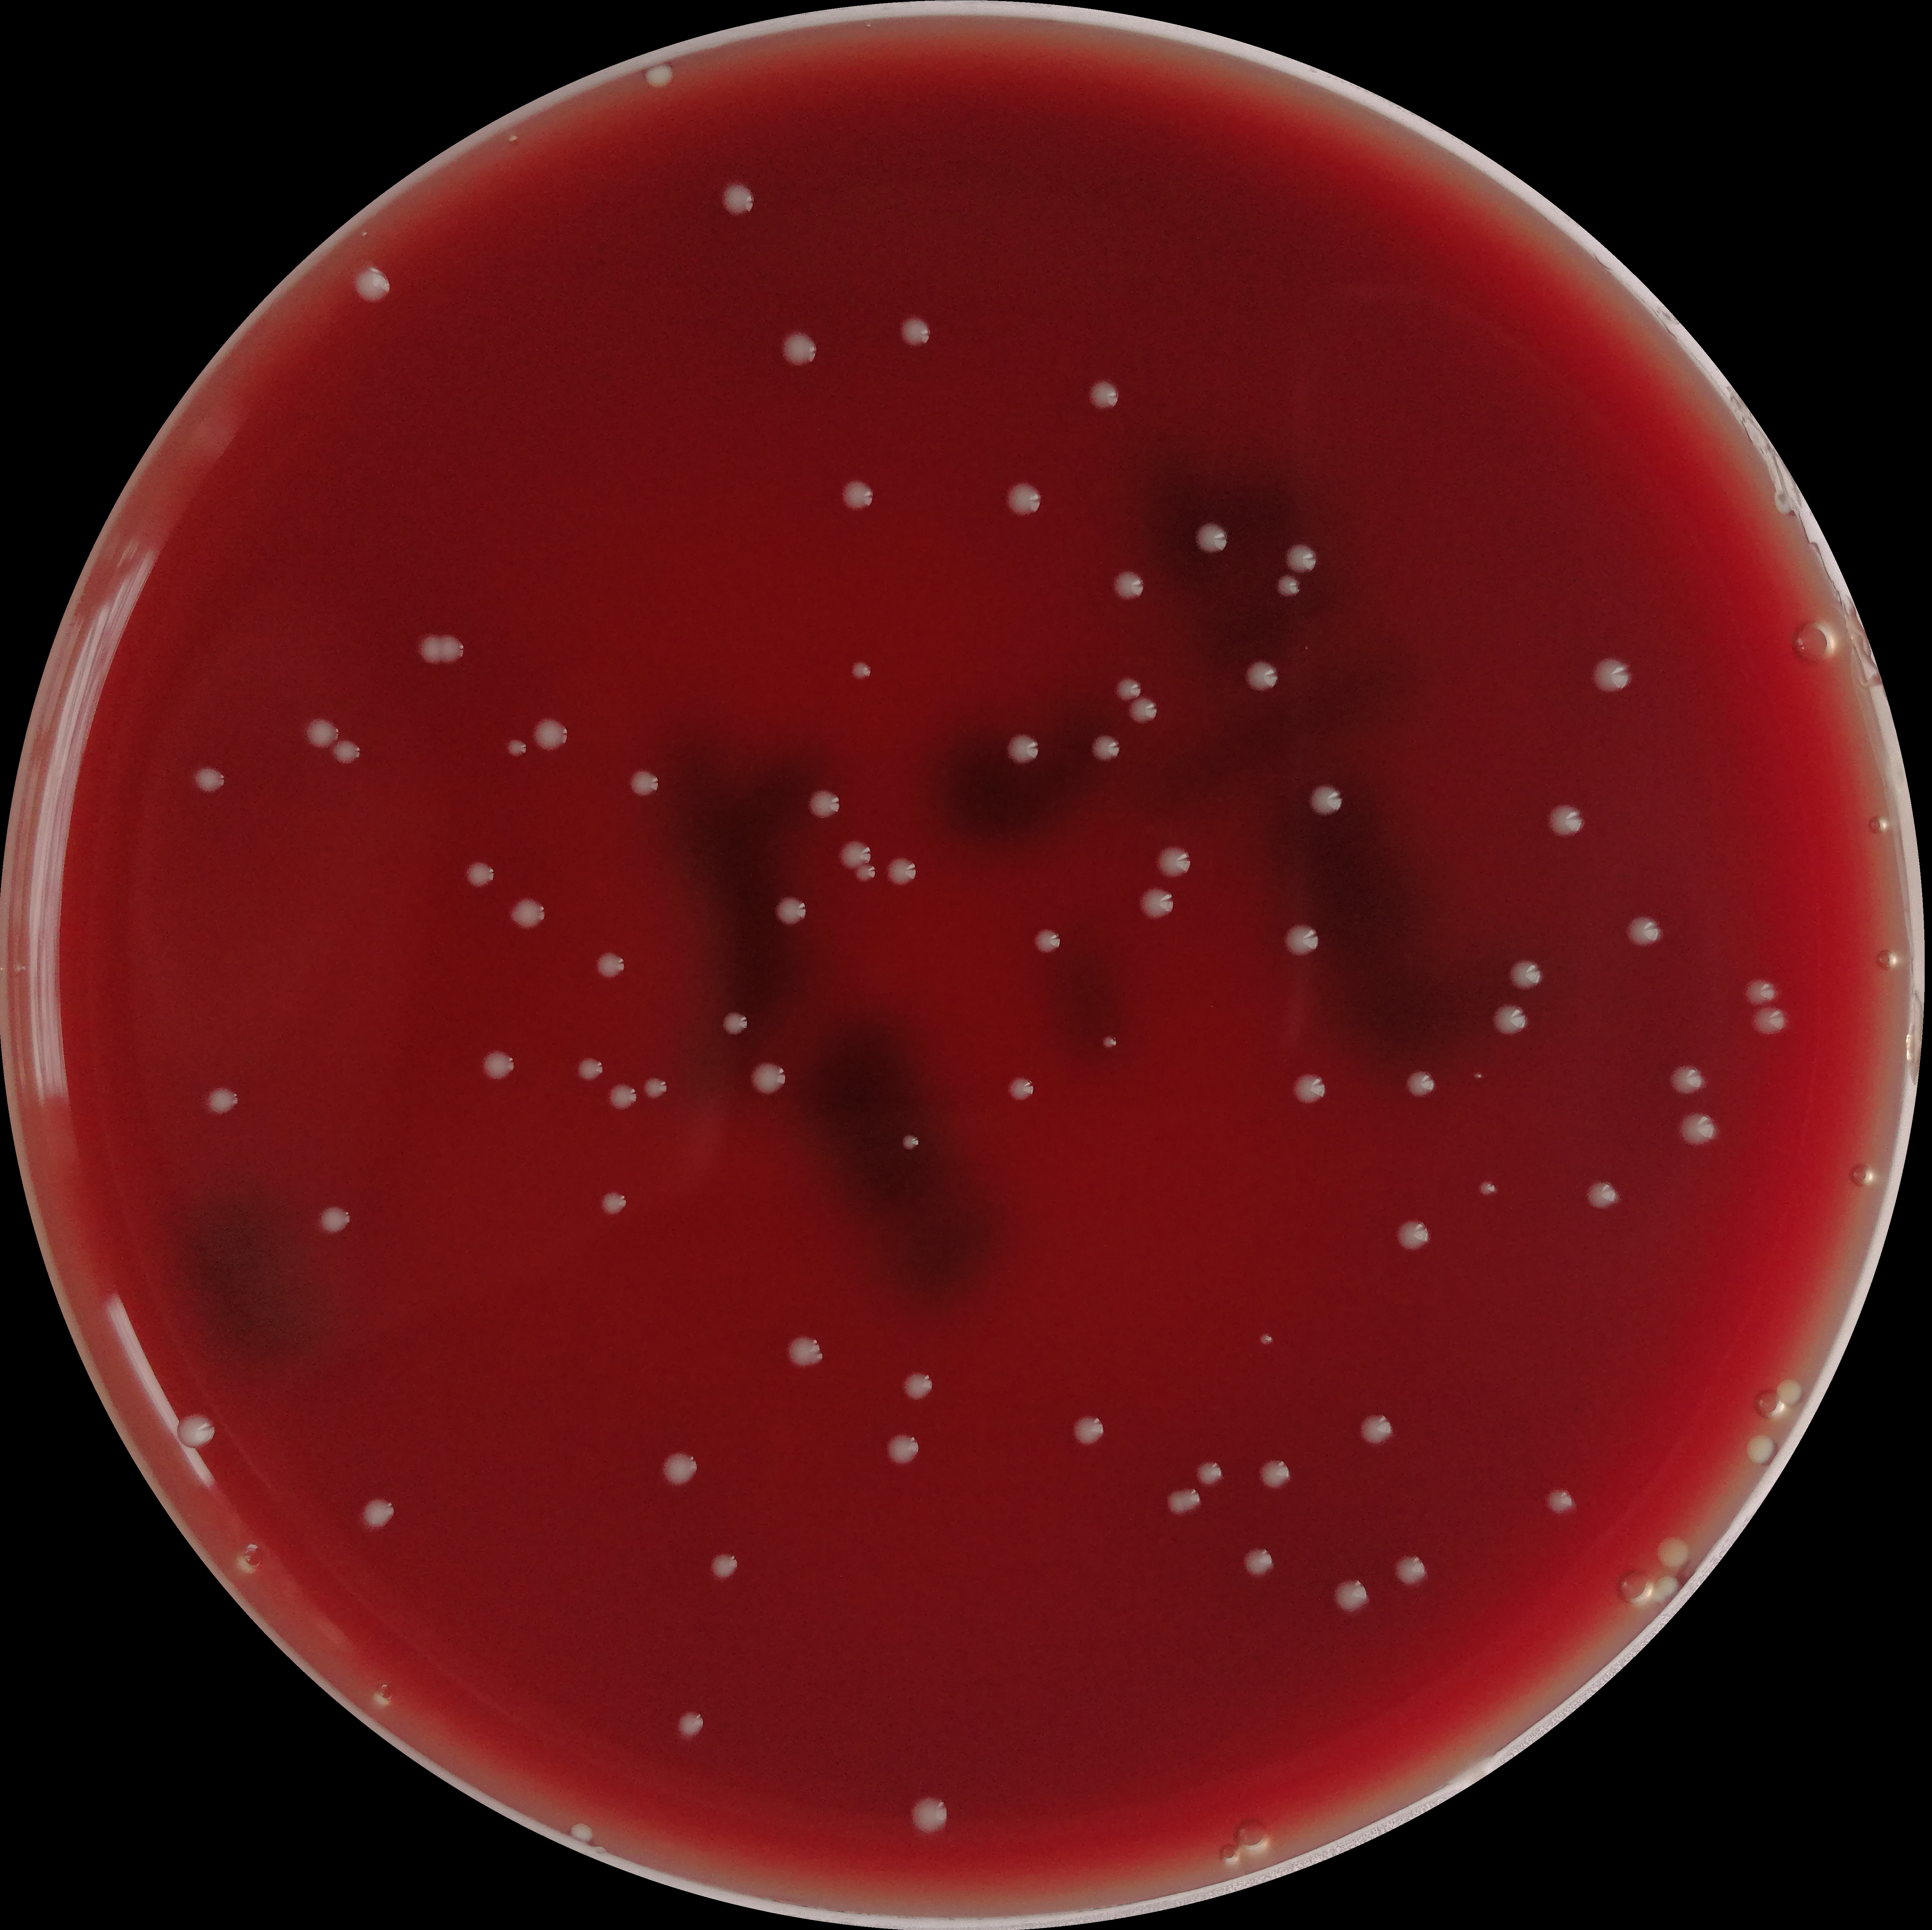sp21: (348, 263, 398, 308), (1676, 1106, 1720, 1152), (907, 1792, 951, 1836), (171, 1412, 219, 1453), (1543, 801, 1587, 843), (1327, 1577, 1373, 1617), (1589, 656, 1632, 696), (658, 1449, 700, 1490), (1748, 1000, 1791, 1039), (1135, 884, 1175, 923), (1504, 956, 1545, 995), (1289, 1069, 1329, 1108), (529, 714, 569, 753), (776, 331, 818, 368), (189, 765, 232, 802), (506, 894, 550, 930), (1004, 481, 1045, 518), (1624, 912, 1665, 949), (1398, 1216, 1434, 1258), (300, 716, 343, 751), (1110, 566, 1147, 604), (1191, 520, 1230, 557), (1237, 1543, 1276, 1580), (884, 1430, 924, 1465), (481, 1048, 523, 1082), (840, 475, 877, 513), (1243, 657, 1280, 695), (1163, 1481, 1200, 1518), (1154, 843, 1190, 882), (748, 1060, 787, 1096), (1653, 1532, 1692, 1568), (1667, 1062, 1708, 1096), (313, 1204, 354, 1237), (719, 180, 755, 217), (1283, 539, 1319, 576), (772, 893, 808, 930), (1306, 781, 1343, 817), (1492, 1002, 1529, 1037), (787, 1334, 824, 1370), (1071, 1412, 1107, 1449), (1257, 1456, 1294, 1492), (594, 1188, 633, 1221), (804, 788, 843, 822), (359, 1495, 398, 1529), (1085, 376, 1121, 412), (1393, 1554, 1428, 1589), (898, 313, 932, 350), (1004, 732, 1041, 765), (1283, 923, 1320, 956), (1741, 974, 1778, 1007), (1582, 1177, 1619, 1211), (592, 947, 629, 981), (1358, 1412, 1395, 1446), (705, 1550, 744, 1582), (836, 838, 871, 871), (461, 859, 497, 893), (898, 1370, 935, 1402), (1403, 1069, 1439, 1101), (1541, 1486, 1577, 1518), (1746, 1430, 1778, 1465), (884, 855, 917, 887), (329, 735, 362, 767), (628, 767, 661, 799), (1124, 695, 1160, 725), (415, 633, 445, 668), (203, 1085, 239, 1115), (1089, 732, 1121, 764), (675, 1707, 705, 1741), (1246, 1326, 1282, 1354), (642, 58, 673, 88), (608, 1082, 638, 1113), (719, 1007, 751, 1037), (1193, 1458, 1225, 1488), (1773, 1377, 1803, 1409), (437, 633, 465, 666), (1273, 573, 1303, 603), (845, 656, 877, 684), (1112, 673, 1144, 702), (1032, 926, 1062, 954), (573, 1055, 605, 1082), (642, 1075, 670, 1103), (1004, 1076, 1034, 1103), (567, 1820, 596, 1847), (504, 735, 529, 762), (848, 861, 877, 884), (900, 1133, 921, 1156), (1099, 1030, 1121, 1050), (1476, 1179, 1499, 1197), (1471, 1069, 1485, 1083)
